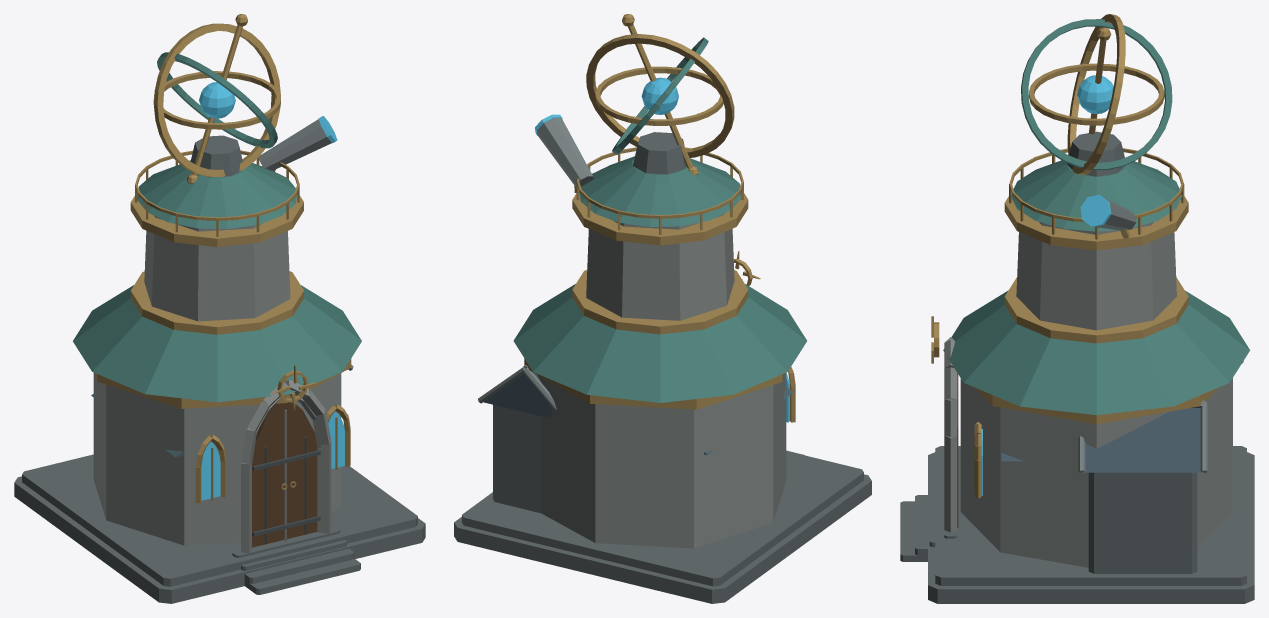
The model's file is seekers.glb.
The picture shows the model from 3 angles, left to right: view 1: azimuth 30°, elevation 25°; view 2: azimuth 150°, elevation 25°; view 3: azimuth 270°, elevation 25°; orthographic projection. The views are drawn at different scales.
Parts seen in each view (by area): view 1: VIL_SEEKERS_CHAPEL; view 2: VIL_SEEKERS_CHAPEL; view 3: VIL_SEEKERS_CHAPEL.
Part boxes in pixels (x1,y1,x2,y2): VIL_SEEKERS_CHAPEL: (14,14,425,603); VIL_SEEKERS_CHAPEL: (454,14,871,603); VIL_SEEKERS_CHAPEL: (900,14,1254,603).
Bounding box in the file's own units: 6 × 10.63 × 6.51.
